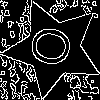O: (28, 23, 82, 71)
